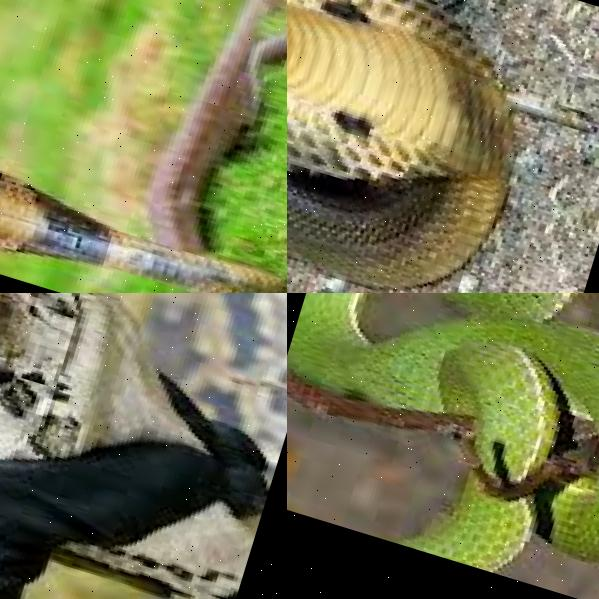snake: (287, 293, 599, 599), (0, 293, 287, 599), (0, 0, 287, 293), (287, 0, 554, 293)
